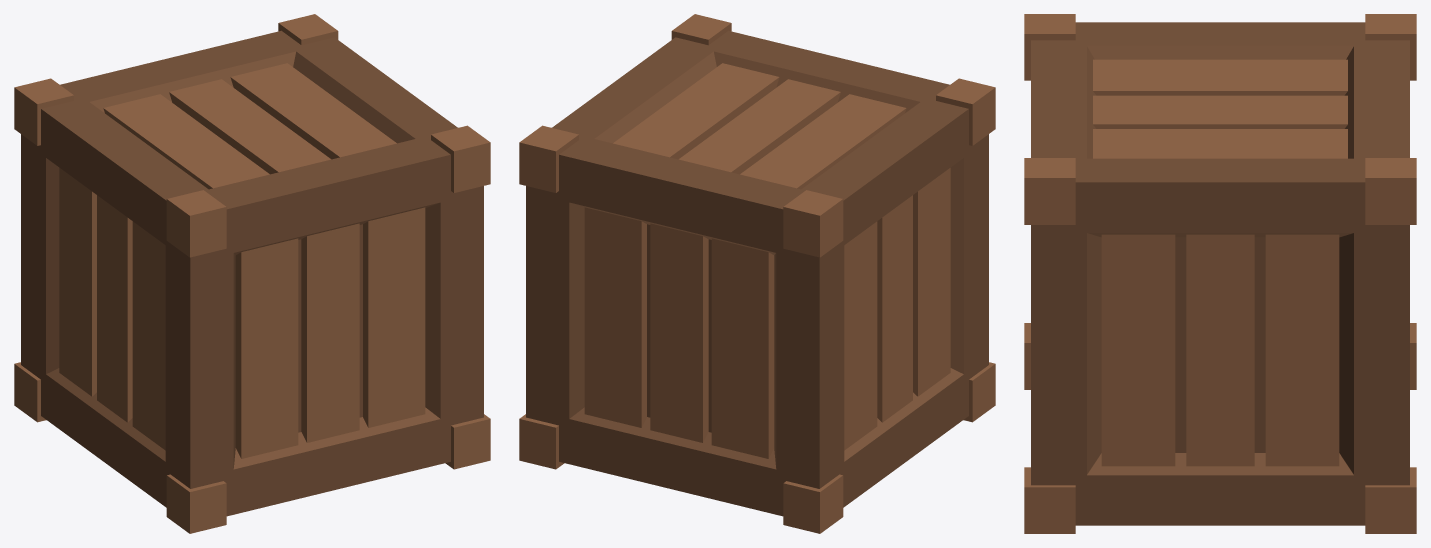
The model's file is Crate.glb.
3 views of the same model, side by side, from view 1: azimuth 30°, elevation 25°; view 2: azimuth 150°, elevation 25°; view 3: azimuth 270°, elevation 25° (orthographic). The views are drawn at different scales.
Parts seen in each view (by area): view 1: Cube, Cube.001, Cube.002; view 2: Cube, Cube.001, Cube.002; view 3: Cube, Cube.001, Cube.002.
Part boxes in pixels (x1,y1,x2,y2): Cube: (14,14,490,533); Cube.001: (59,168,425,458); Cube.002: (103,63,396,189); Cube: (519,14,995,533); Cube.001: (584,168,950,458); Cube.002: (613,63,906,189); Cube: (1024,14,1416,533); Cube.001: (1101,234,1339,466); Cube.002: (1093,59,1347,158).
Size of the model in its own units: 2.05 by 2.07 by 2.07.
